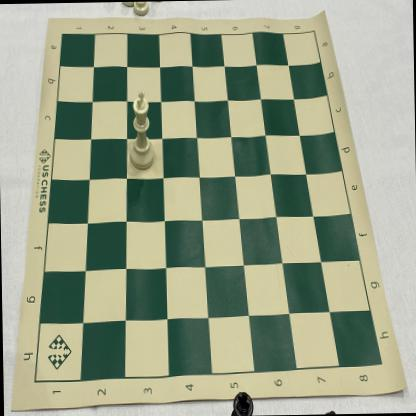white-king: (126, 88, 156, 172)
